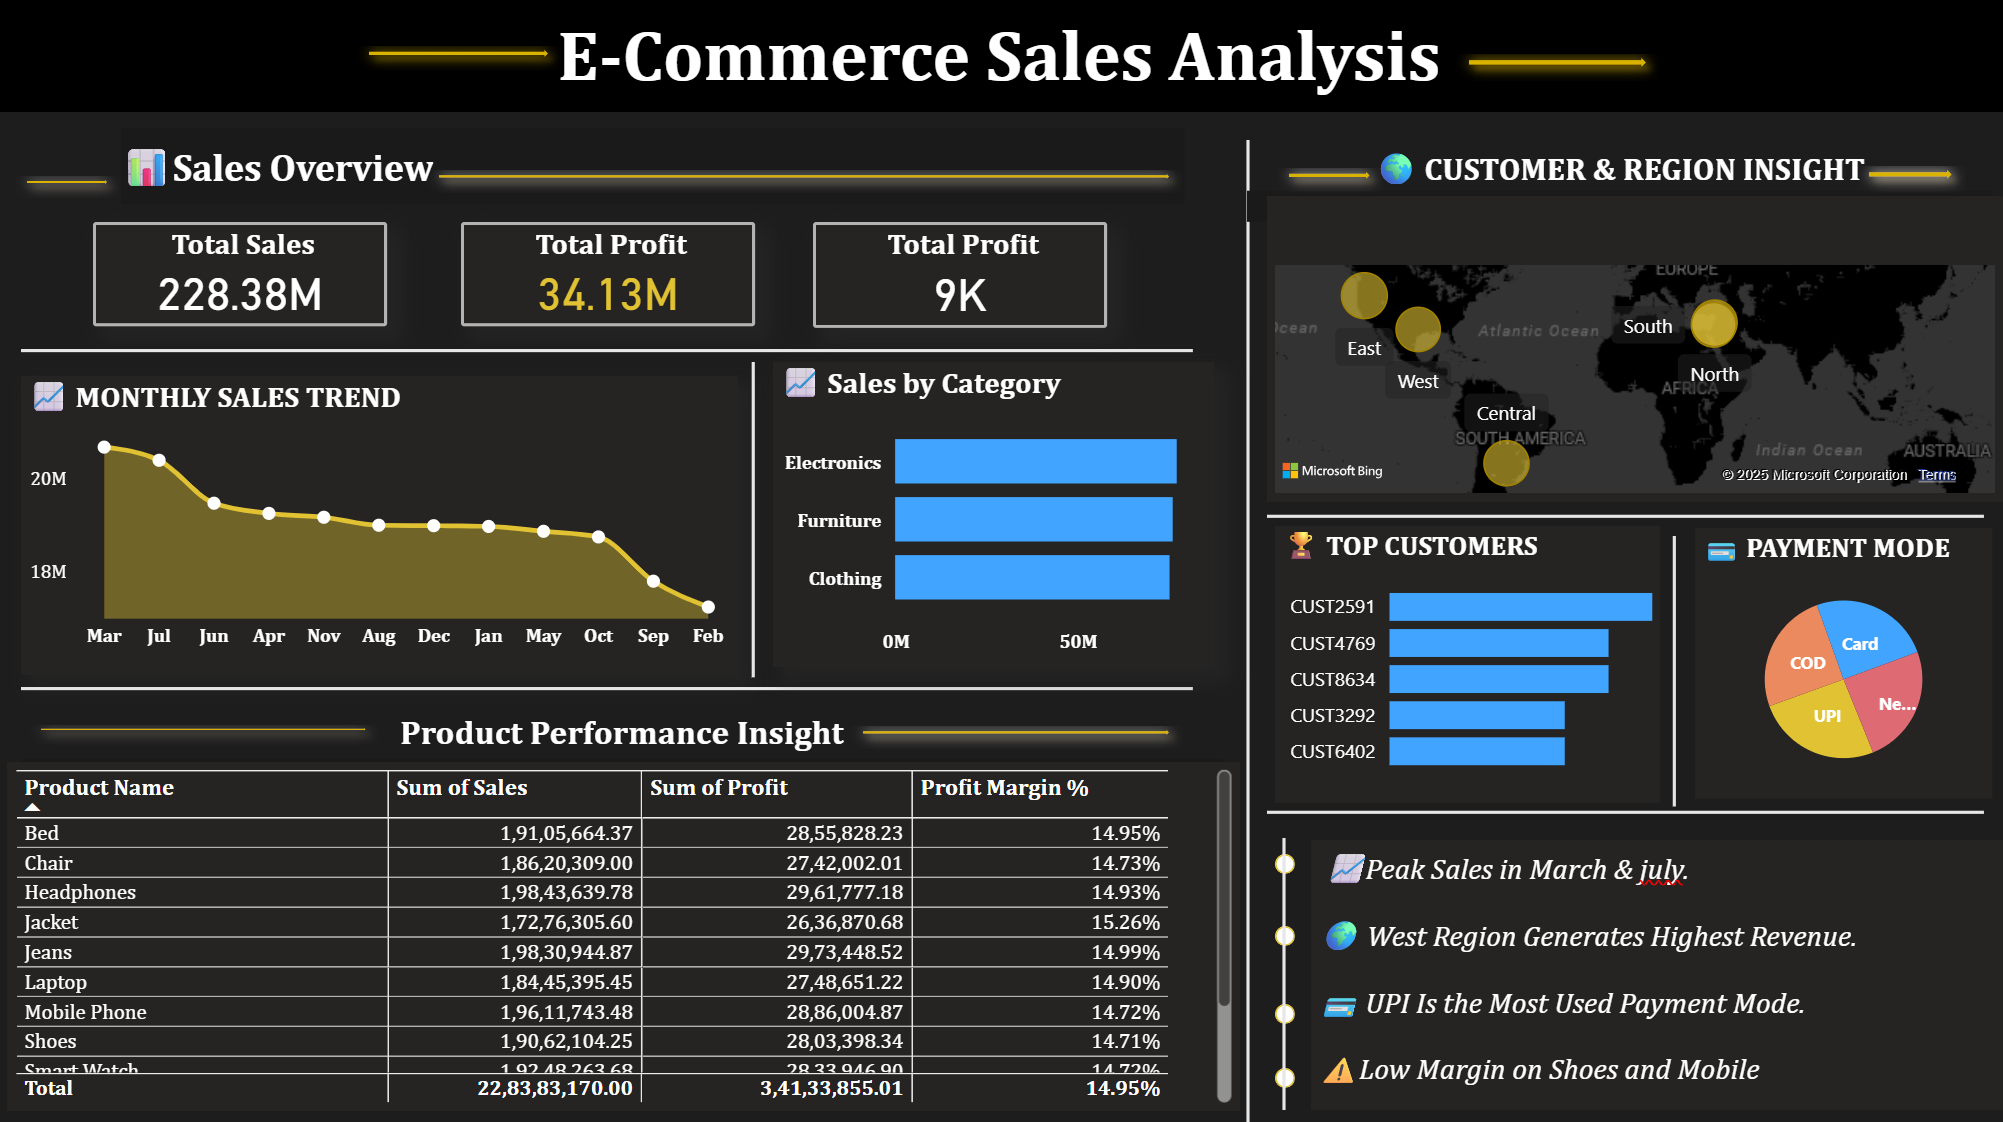

Layout of this report page (visuals, bound fields, positions):
{"tool":"powerbi","page":{"name":"Page 1","canvas":[1280,720],"ordinal":0},"visuals":[{"type":"shape","box":[0,0,1280,73.9],"z":0},{"type":"shape","box":[229.9,26.1,131.9,22.2],"z":1000},{"type":"shape","box":[167,48.4,205.3,10.2],"z":2000},{"type":"shape","box":[931.3,30,130.6,23.5],"z":3000},{"type":"shape","box":[80.3,84.1,678.2,48.4],"z":4000},{"type":"shape","box":[11.5,108.4,68.8,20.4],"z":5000},{"type":"shape","box":[544.7,458.4,212.9,20.9],"z":6000},{"type":"shape","box":[1061.9,344.8,17,172.4],"z":7000},{"type":"card","title":"Total Sales","fields":{"Values":["Sum(Ecommerce_Sales_9000_Rows.Sales)"]},"box":[62.5,144.1,187.4,66.3],"z":8000},{"type":"card","title":"Total Profit","fields":{"Values":["Sum(Ecommerce_Sales_9000_Rows.Profit)"]},"box":[297.1,144.1,187.4,66.3],"z":9000},{"type":"card","title":"Total Profit","fields":{"Values":["Ecommerce_Sales_9000_Rows.Total Orders"]},"box":[521.4,144.1,187.4,67.6],"z":10000},{"type":"shape","box":[17,210.3,747.1,31.3],"z":11000},{"type":"lineChart","title":"📈 MONTHLY SALES TREND","fields":{"Category":["Ecommerce_Sales_9000_Rows.Month"],"Y":["Sum(Ecommerce_Sales_9000_Rows.Sales)"]},"box":[17,241.6,457.1,190.7],"z":12000},{"type":"shape","title":"Product Performance Insight","box":[16.6,456.4,766.2,40.8],"z":13000},{"type":"shape","box":[20.9,457.1,224.7,19.6],"z":14000},{"type":"shape","box":[274.3,104.5,483.3,20.9],"z":15000},{"type":"shape","box":[17,425.8,747.1,31.3],"z":16000},{"type":"shape","box":[792.8,91.5,11.5,628.5],"z":17000},{"type":"barChart","title":"📈 Sales by Category","fields":{"Category":["Ecommerce_Sales_9000_Rows.Product Category"],"Y":["Sum(Ecommerce_Sales_9000_Rows.Sales)"]},"box":[496.3,233.8,280.8,194.6],"z":18000},{"type":"shape","title":"🌍 CUSTOMER & REGION INSIGHT","box":[798,95.3,475.4,48.3],"z":19000},{"type":"shape","box":[1186,101.9,70.5,23.5],"z":20000},{"type":"shape","box":[816.3,103.2,69.2,22.2],"z":21000},{"type":"map","fields":{"Category":["Ecommerce_Sales_9000_Rows.Region"],"Size":["Sum(Ecommerce_Sales_9000_Rows.Sales)"]},"box":[811.1,129.3,468.9,193.3],"z":22000},{"type":"shape","box":[811.1,128,468.9,34],"z":23000},{"type":"shape","box":[811.1,512,457.1,15.7],"z":24000},{"type":"barChart","title":"🏆 TOP CUSTOMERS","fields":{"Category":["Ecommerce_Sales_9000_Rows.Customer ID"],"Y":["CountNonNull(Ecommerce_Sales_9000_Rows.Region)"]},"box":[816.3,338.3,245.6,176.3],"z":25000},{"type":"shape","box":[811.1,323.9,457.1,15.7],"z":26000},{"type":"shape","box":[476.7,233.8,13.1,201.1],"z":27000},{"type":"pieChart","title":"💳 PAYMENT MODE","fields":{"Category":["Ecommerce_Sales_9000_Rows.Payment Mode"],"Y":["Sum(Ecommerce_Sales_9000_Rows.Sales)"]},"box":[1084.1,339.6,189.4,172.4],"z":28000},{"type":"tableEx","fields":{"Values":["Ecommerce_Sales_9000_Rows.Product Name","Sum(Ecommerce_Sales_9000_Rows.Sales)","Sum(Ecommerce_Sales_9000_Rows.Profit)","Ecommerce_Sales_9000_Rows.Profit Margin %"]},"box":[7.6,488.3,785.3,221.8],"z":29000},{"type":"textbox","box":[838.9,538,441.1,172.1],"z":30000},{"type":"shape","box":[815.9,546.9,12.7,12.7],"z":30001},{"type":"shape","box":[815.9,592.8,12.7,12.7],"z":30002},{"type":"shape","box":[815.9,642.5,12.7,12.7],"z":30003},{"type":"shape","box":[815.9,683.3,12.7,12.7],"z":30004},{"type":"shape","box":[813.4,536.7,16.6,173.4],"z":30005}]}

Visuals, with their boxes in screenshot pixels (x1, y1, x2, y2), scaled from the page's 1280x720 canvas onto the 2003x1122 screenshot:
shape: 0:0:2002:115
shape: 360:41:566:75
shape: 261:75:583:91
shape: 1457:47:1662:83
shape: 126:131:1187:206
shape: 18:169:126:201
shape: 852:714:1186:747
shape: 1662:537:1688:806
"Total Sales" card: 98:225:391:328
"Total Profit" card: 465:225:758:328
"Total Profit" card: 816:225:1109:330
shape: 27:328:1196:376
"📈 MONTHLY SALES TREND" lineChart: 27:376:742:674
"Product Performance Insight" shape: 26:711:1225:775
shape: 33:712:384:743
shape: 429:163:1186:195
shape: 27:664:1196:712
shape: 1241:143:1259:1121
"📈 Sales by Category" barChart: 777:364:1216:668
"🌍 CUSTOMER & REGION INSIGHT" shape: 1249:149:1993:224
shape: 1856:159:1966:195
shape: 1277:161:1386:195
map - Ecommerce_Sales_9000_Rows.Region x Sum(Ecommerce_Sales_9000_Rows.Sales): 1269:201:2002:503
shape: 1269:199:2002:252
shape: 1269:798:1985:822
"🏆 TOP CUSTOMERS" barChart: 1277:527:1662:802
shape: 1269:505:1985:529
shape: 746:364:766:678
"💳 PAYMENT MODE" pieChart: 1696:529:1993:798
tableEx - Ecommerce_Sales_9000_Rows.Product Name x Sum(Ecommerce_Sales_9000_Rows.Sales): 12:761:1241:1107
textbox: 1313:838:2002:1107
shape: 1277:852:1297:872
shape: 1277:924:1297:944
shape: 1277:1001:1297:1021
shape: 1277:1065:1297:1085
shape: 1273:836:1299:1107
